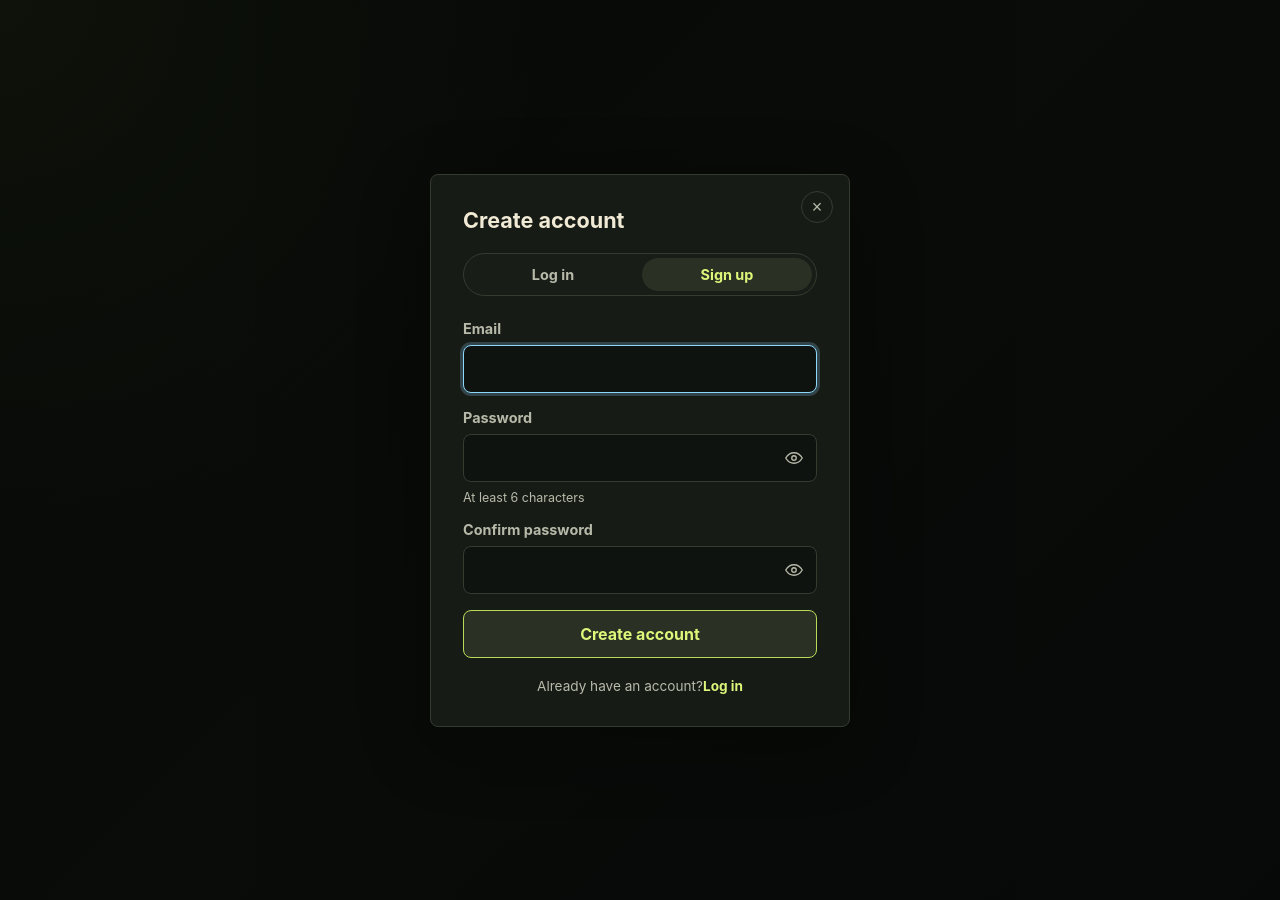
Test case: AuthModal — submit outcomes › shows the success screen after a successful sign up
This screenshot has width=1280, height=900.
Type "frog@example.com" into the field with id "authEmail" at (640, 368), box [463,344,817,392]
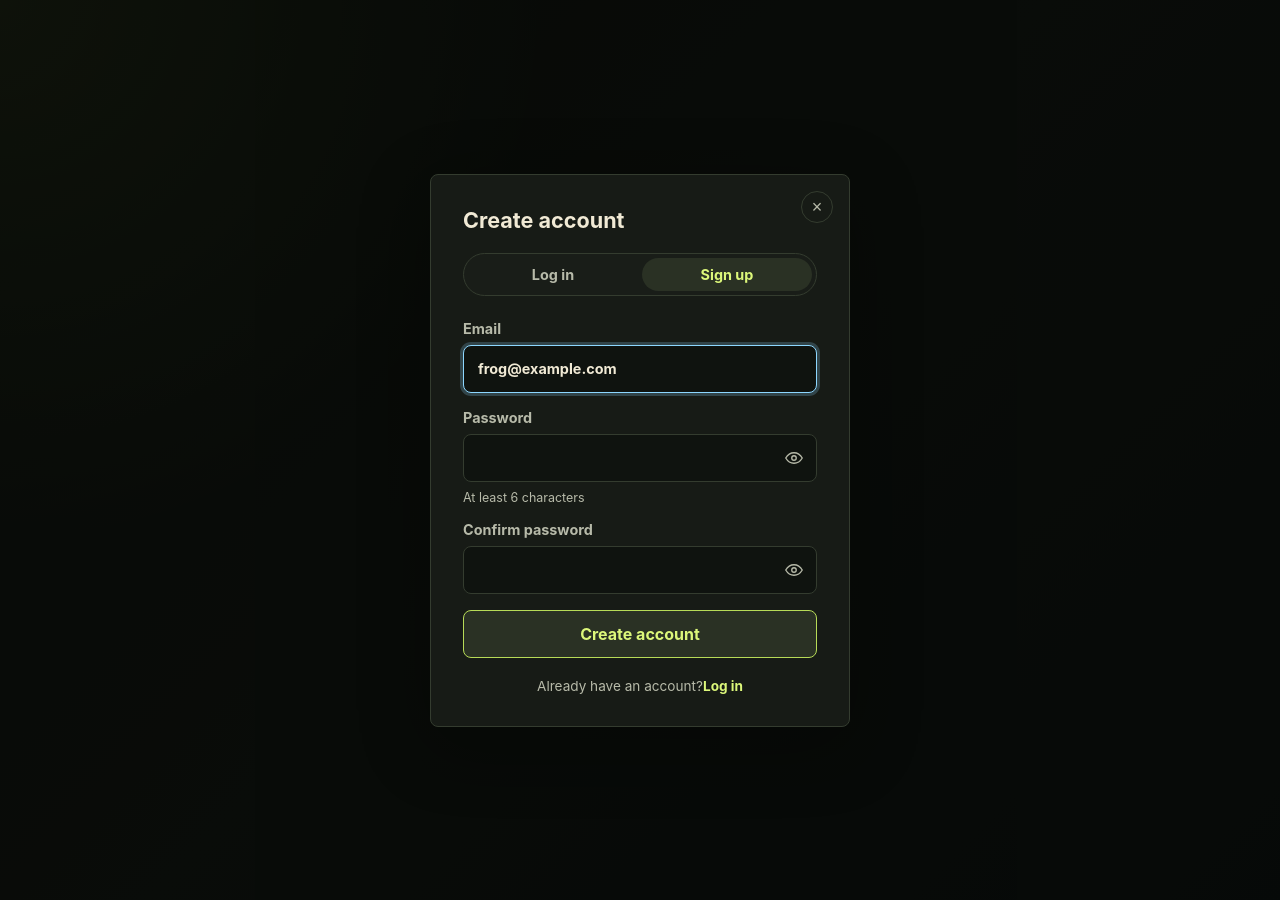
Type "password1" into the password field with id "authPassword" at (640, 458), box [463,434,817,482]
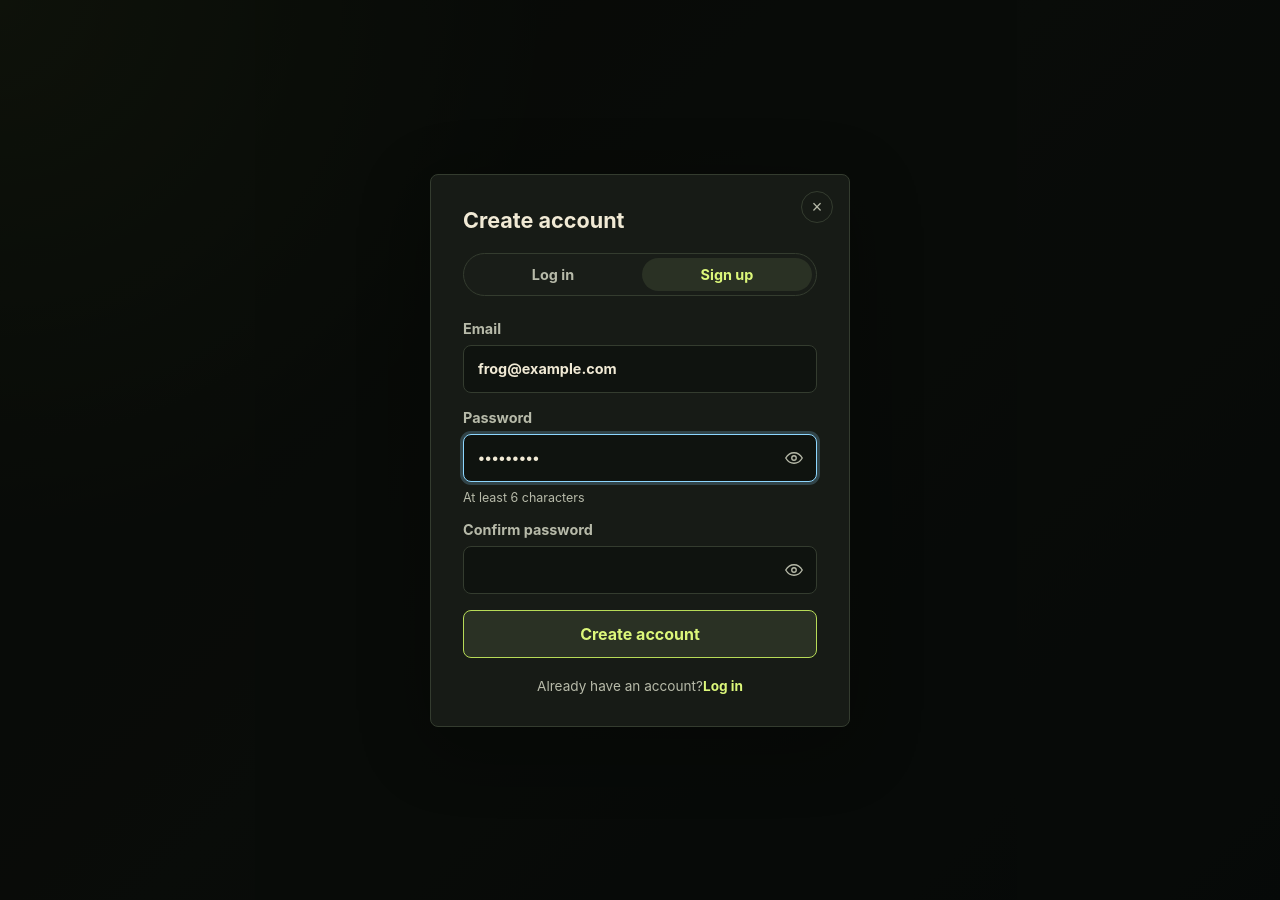
Type "password1" into the password field with id "authConfirmPassword" at (640, 570), box [463,546,817,594]
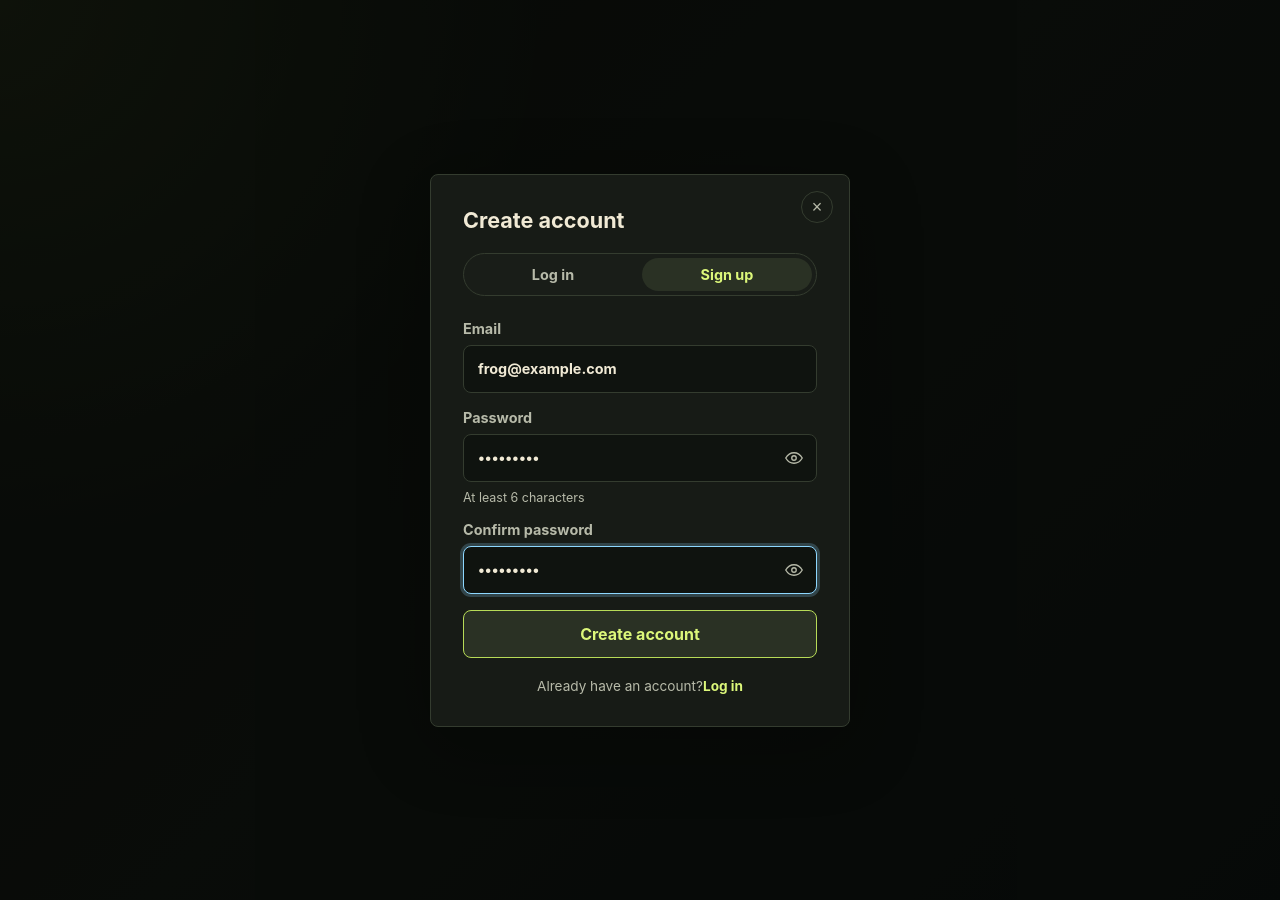
Click the button "Create account" at (640, 634), box [463,610,817,658]
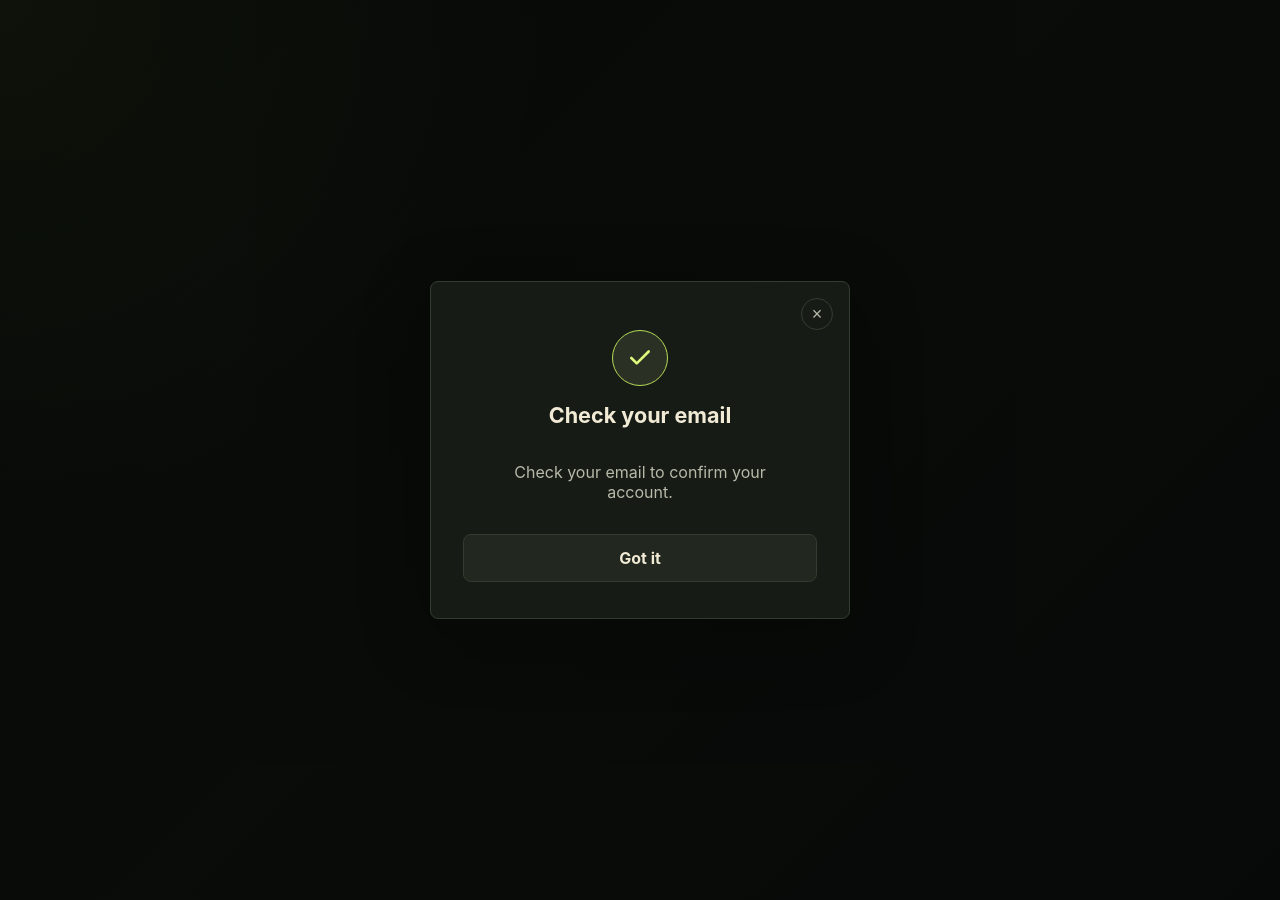
Check: the heading "Check your email" is shown, box [549,402,731,428]
